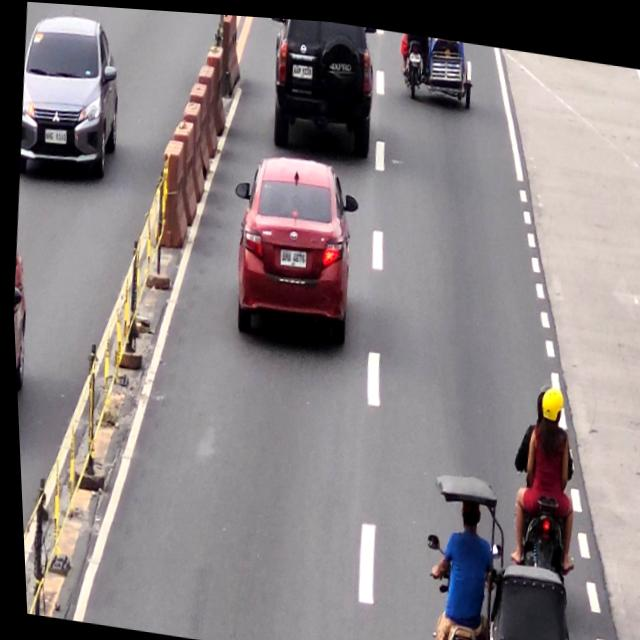Car: (227, 150, 351, 333), (268, 14, 377, 150)
License-Plate: (274, 243, 304, 266), (290, 59, 313, 75)
Motorcycle: (500, 370, 583, 570)
Tricycle: (410, 460, 579, 640), (398, 27, 475, 105)
